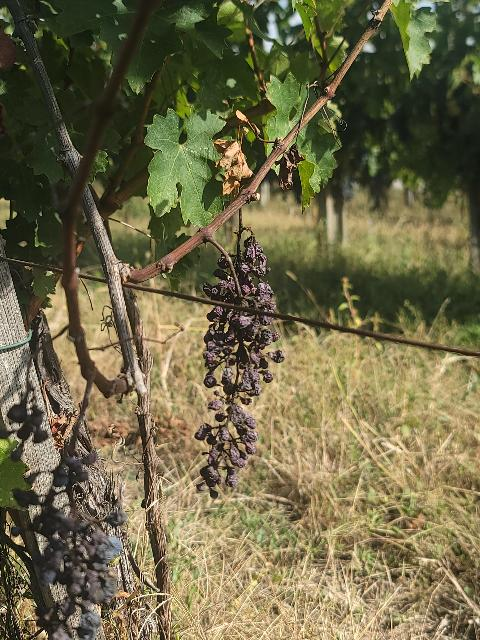grapes: (195, 226, 284, 498), (15, 450, 122, 640)
